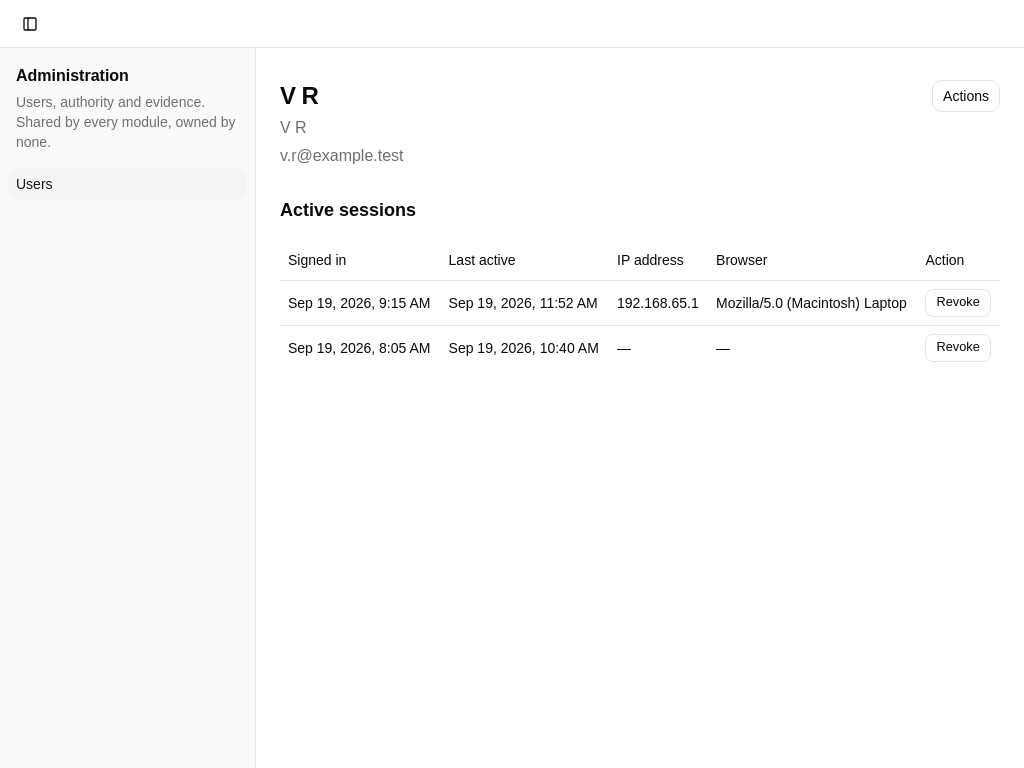
revoking › sends exactly the reason, re-reads the sessions, announces, and the row is gone
Check: the heading "V R" is shown, box x1=280 y1=82 x2=318 y2=109
Click the button with aria-label "Revoke session". click: (958, 302)
box: x1=926 y1=288 x2=991 y2=316
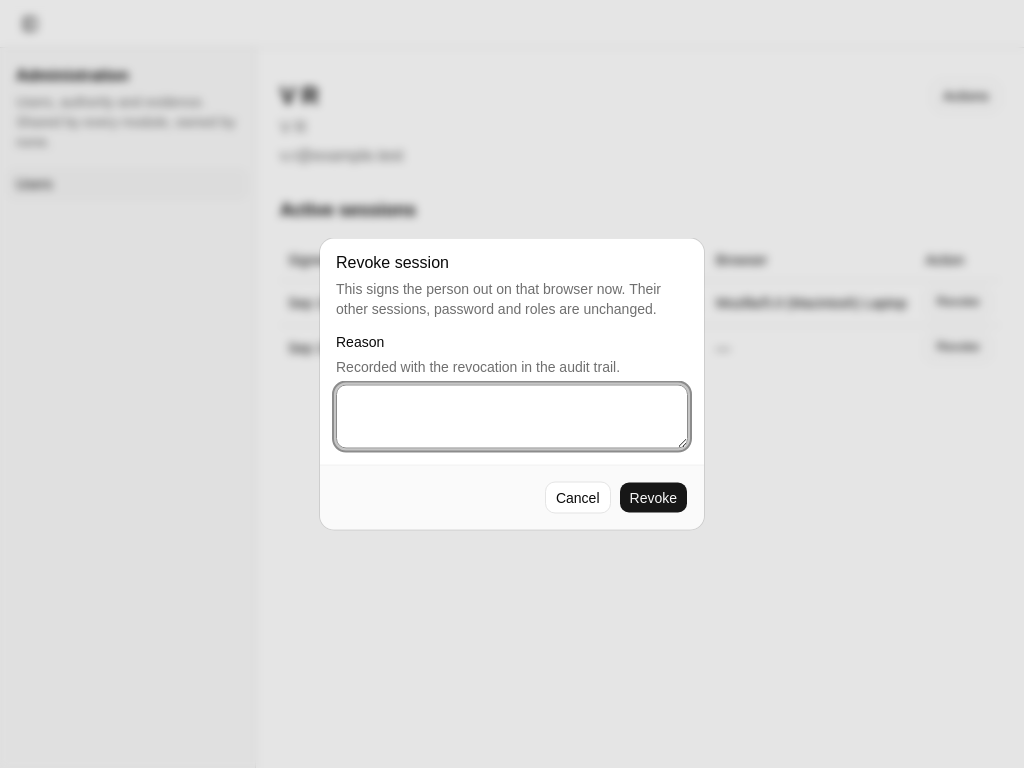
Type "Lost laptop" into the text box labelled "Reason". click: (512, 416)
box: x1=336 y1=384 x2=688 y2=448
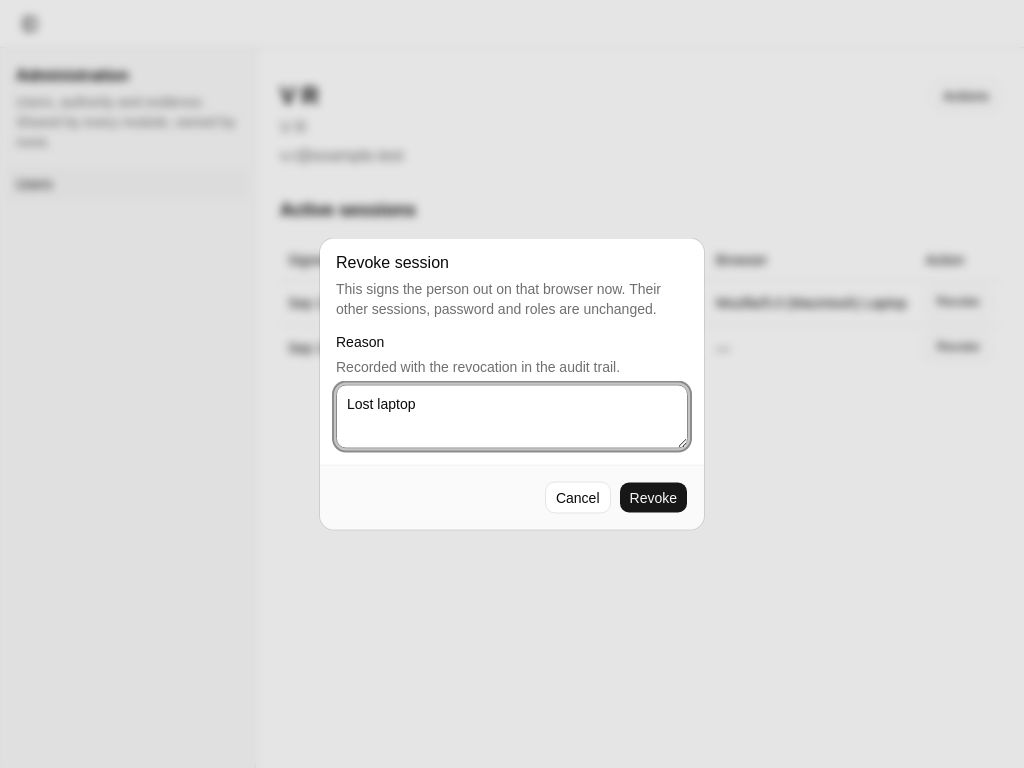
Click the button "Revoke". click: (653, 498)
box: x1=618 y1=482 x2=688 y2=514
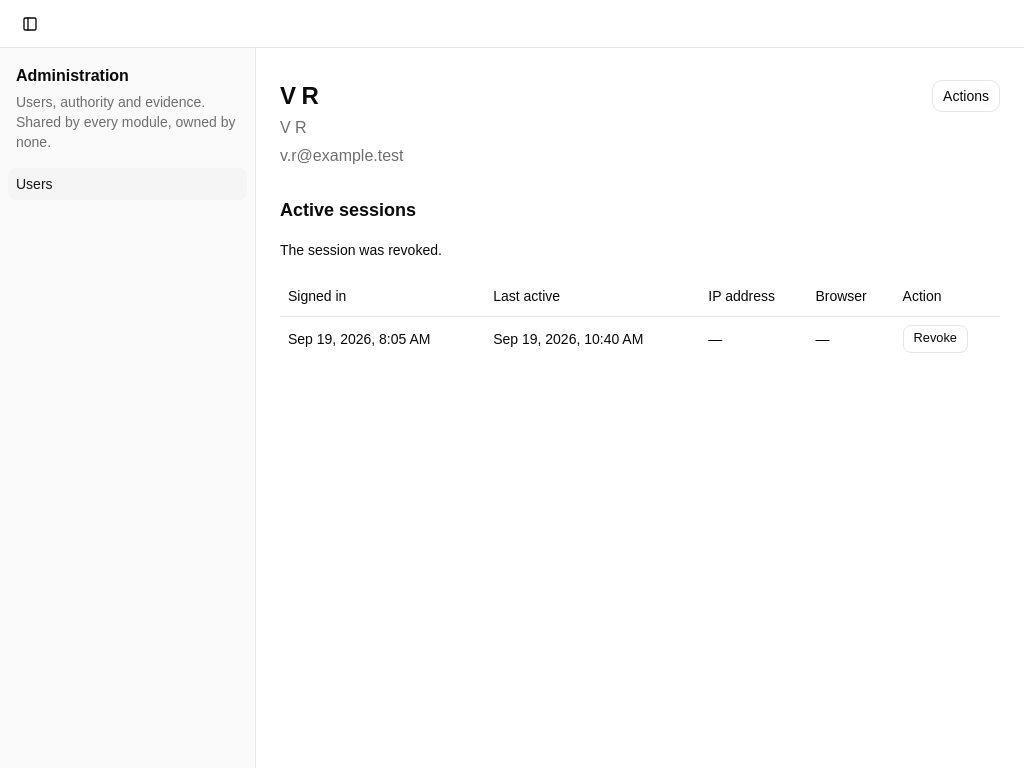
Check: the dialog is gone
Check: the text "The session was revoked." is shown, box x1=280 y1=242 x2=442 y2=258
Check: the text "192.168.65.1" is gone
